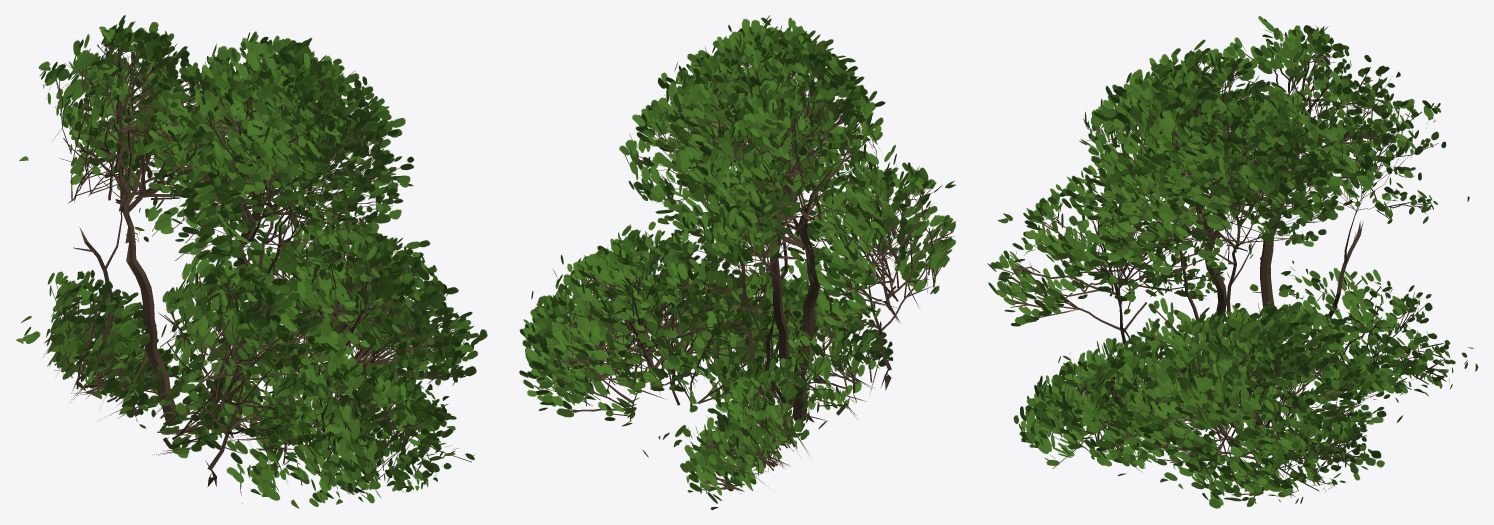
3 views of the same model, side by side, from view 1: azimuth 30°, elevation 25°; view 2: azimuth 150°, elevation 25°; view 3: azimuth 270°, elevation 25° (orthographic). The views are drawn at different scales.
Visible parts, largest first — view 1: oak 01.001_trunk_Mat.001_0.451; view 2: oak 01.001_trunk_Mat.001_0.451; view 3: oak 01.001_trunk_Mat.001_0.451.
Part boxes in pixels (bbox=[...]): oak 01.001_trunk_Mat.001_0.451: bbox=[16, 15, 487, 508]; oak 01.001_trunk_Mat.001_0.451: bbox=[519, 15, 955, 510]; oak 01.001_trunk_Mat.001_0.451: bbox=[987, 16, 1478, 508].
Bounding box in the file's own units: 3.52 × 4.07 × 4.71.
2 materials, 1 textured.
